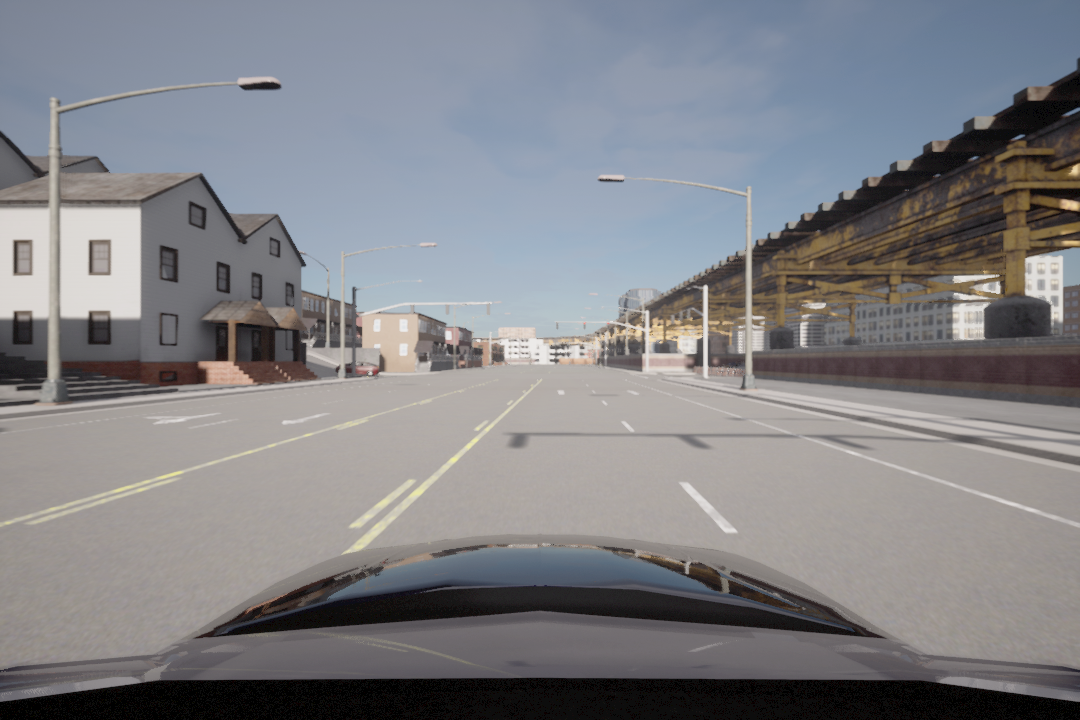RoadSign_forward_right: (141, 411, 228, 426)
